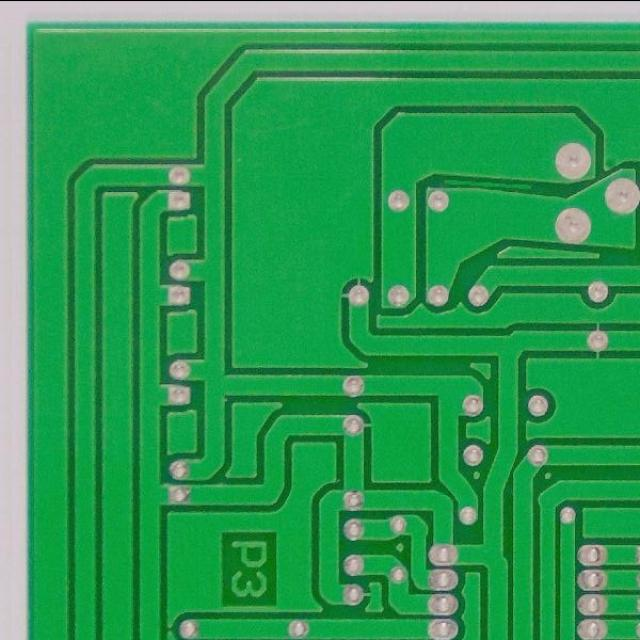spurious_copper: (442, 171, 533, 193)
